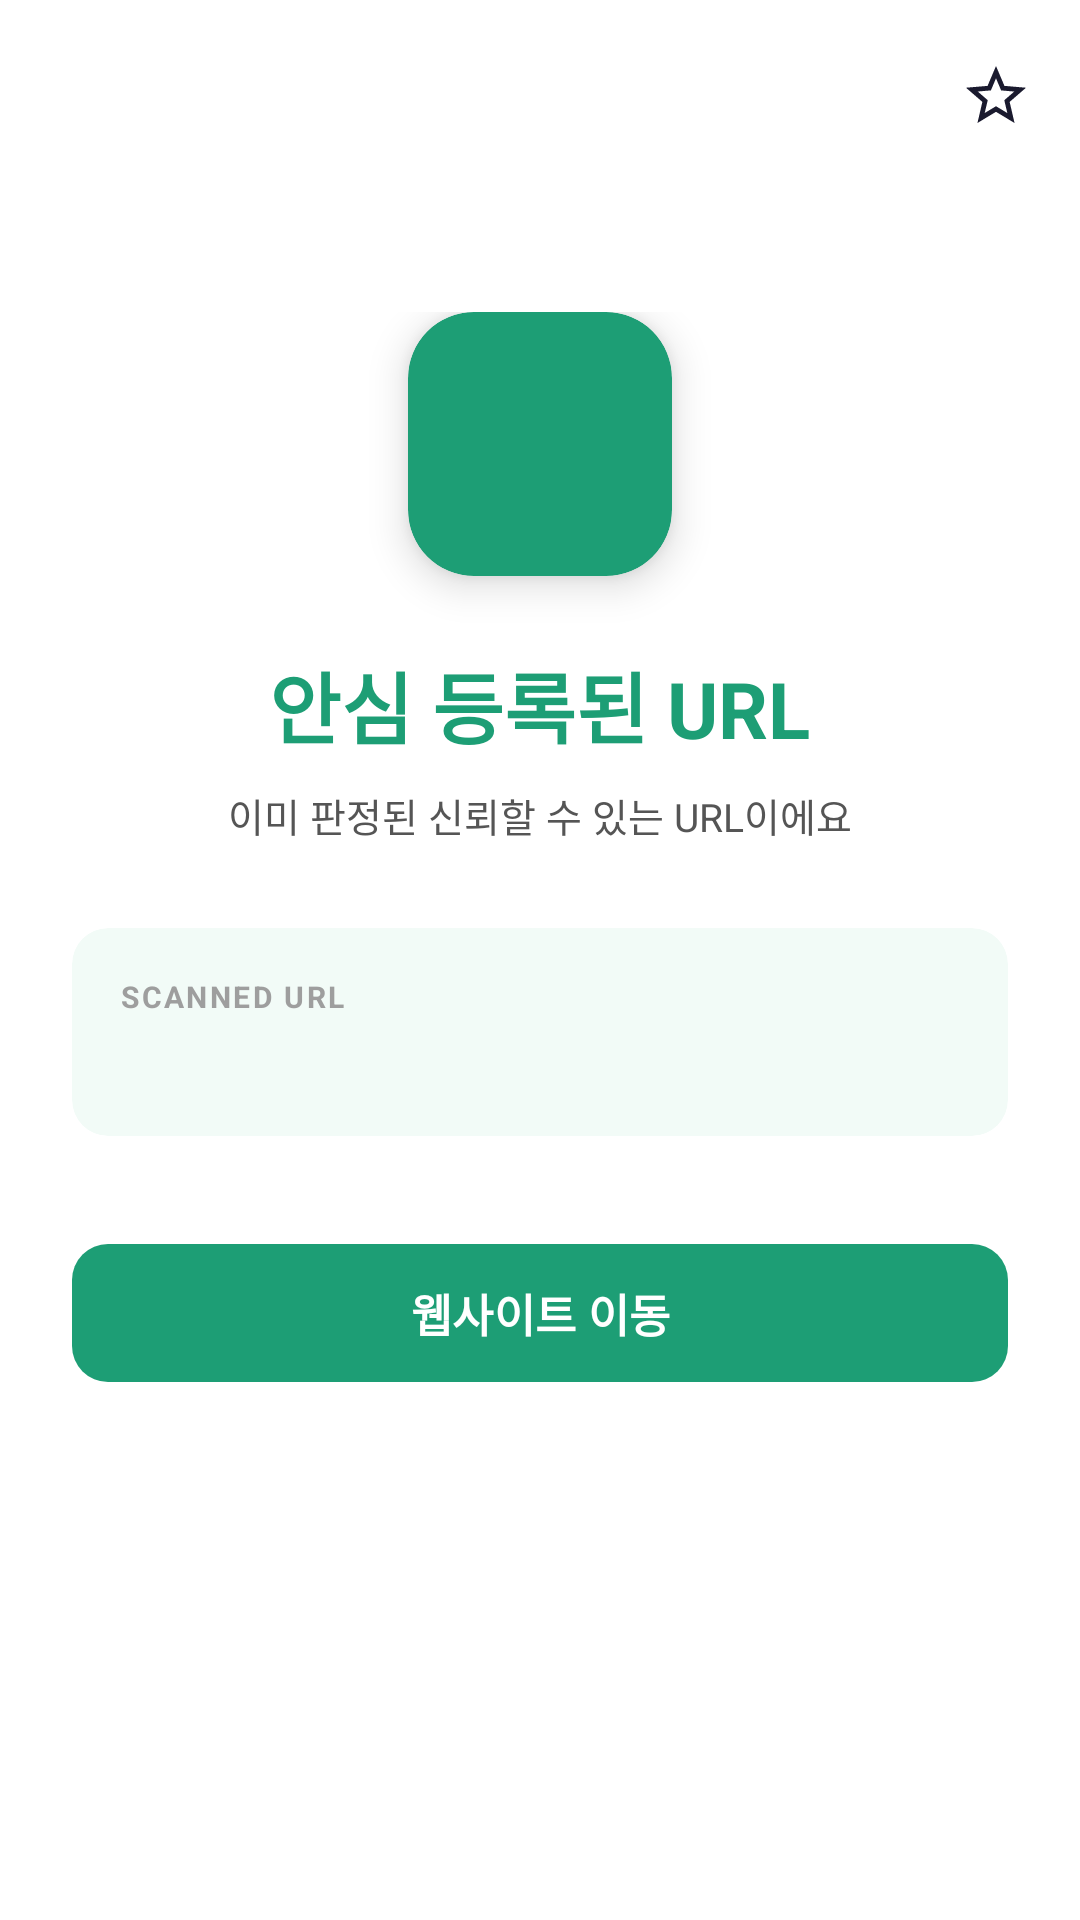

Screen size 1080px x 1920px. Icon name, then its center in pixels as point (x, y):
즐겨찾기: point (996, 94)
